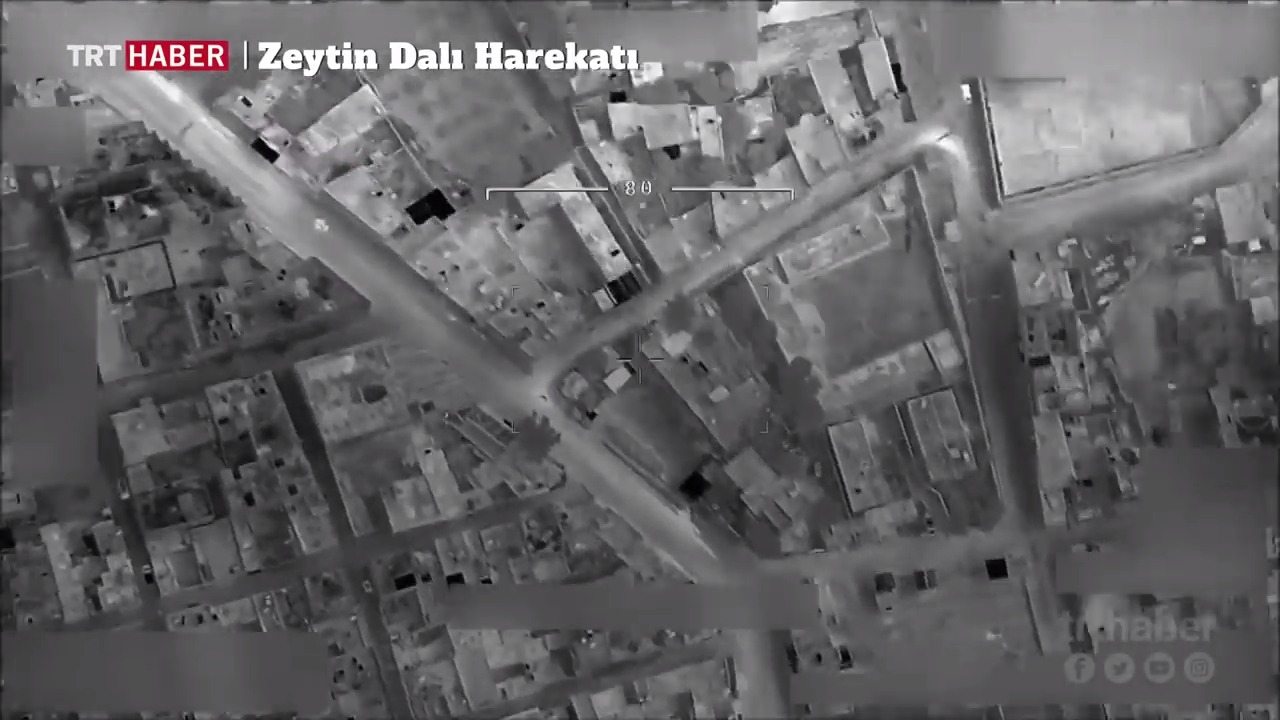bina: (285, 340, 426, 447)
